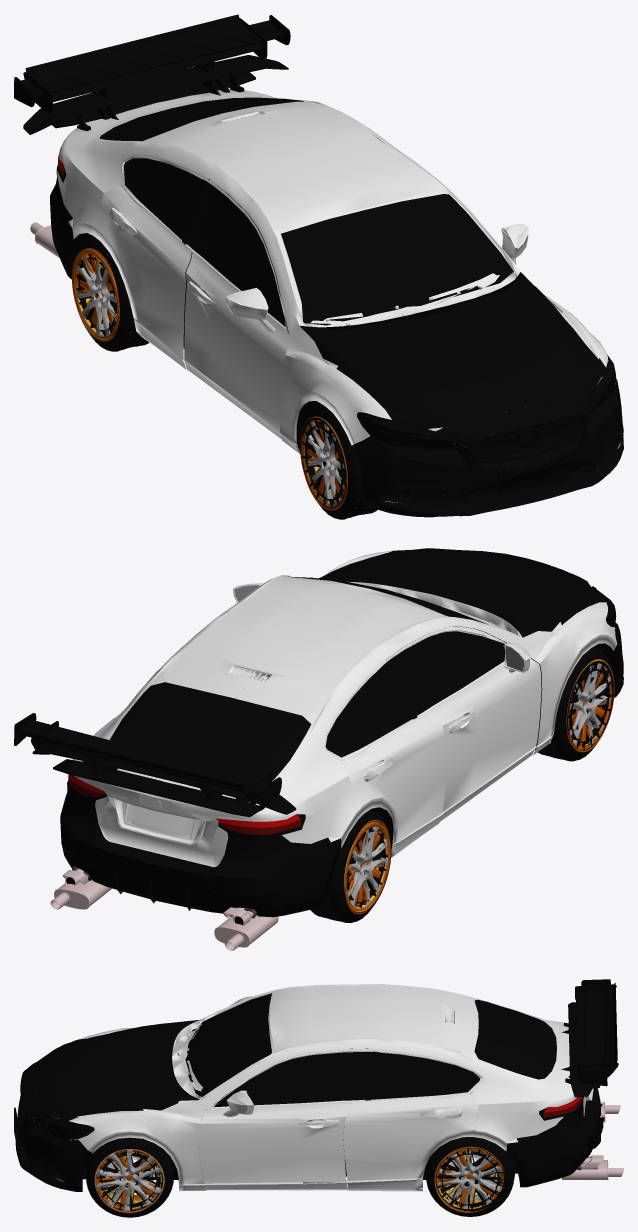
File: mazda6_gj.glb
3 renders of one model, top to bottom at view 1: azimuth 30°, elevation 25°; view 2: azimuth 150°, elevation 25°; view 3: azimuth 270°, elevation 25°, orthographic. The views are drawn at different scales.
Parts seen in each view (by area): view 1: Body, Glass, Hood_A, FrontBumper_A, Frontdoors, Backdoors, Grille, Spoiler_C, Spoiler_A, Spoiler_B, Frit, Headlights (+12 smaller); view 2: Body, Glass, RearBumper_A, Hood_A, Frontdoors, Backdoors, Trunk, Diffuser, Spoiler_A, Spoiler_D, Frit, Spoiler_C (+12 smaller); view 3: Body, Glass, Frontdoors, Hood_A, Backdoors, RearBumper_A, FrontBumper_A, Spoiler_A, Tire_FL, Frit, Tire_BL, Spoiler_C (+20 smaller).
Part boxes in pixels (bbox=[...]): Body: bbox=[56, 95, 616, 453]; Glass: bbox=[99, 97, 508, 326]; Hood_A: bbox=[300, 272, 605, 428]; FrontBumper_A: bbox=[352, 379, 623, 517]; Frontdoors: bbox=[183, 179, 528, 438]; Backdoors: bbox=[93, 154, 209, 369]; Grille: bbox=[447, 413, 598, 509]; Spoiler_C: bbox=[23, 14, 267, 119]; Spoiler_A: bbox=[14, 15, 290, 119]; Spoiler_B: bbox=[23, 55, 288, 134]; Frit: bbox=[92, 95, 513, 325]; Headlights: bbox=[357, 355, 618, 497]; Body: bbox=[72, 550, 617, 847]; Glass: bbox=[109, 577, 504, 780]; RearBumper_A: bbox=[60, 783, 341, 916]; Hood_A: bbox=[319, 548, 605, 637]; Frontdoors: bbox=[233, 583, 541, 821]; Backdoors: bbox=[116, 659, 447, 857]; Trunk: bbox=[76, 760, 275, 867]; Diffuser: bbox=[62, 845, 285, 917]; Spoiler_A: bbox=[14, 713, 281, 810]; Spoiler_D: bbox=[53, 759, 260, 817]; Frit: bbox=[104, 576, 468, 781]; Spoiler_C: bbox=[31, 721, 271, 804]; Body: bbox=[52, 984, 566, 1191]; Glass: bbox=[187, 995, 556, 1107]; Frontdoors: bbox=[197, 996, 371, 1190]; Hood_A: bbox=[34, 1019, 200, 1120]; Backdoors: bbox=[343, 1048, 483, 1191]; RearBumper_A: bbox=[506, 1088, 600, 1187]; FrontBumper_A: bbox=[14, 1060, 92, 1191]; Spoiler_A: bbox=[568, 979, 610, 1086]; Tire_FL: bbox=[86, 1137, 174, 1217]; Frit: bbox=[185, 993, 564, 1096]; Tire_BL: bbox=[426, 1137, 514, 1216]; Spoiler_C: bbox=[561, 982, 618, 1077].
Bounding box in the file's own units: 0.438 × 0.3082 × 1.04.
